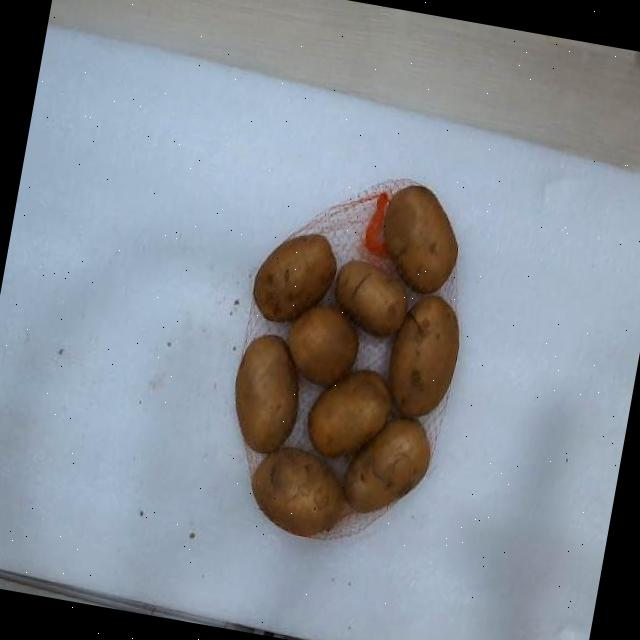potato: (389, 295, 459, 416), (251, 447, 345, 536), (343, 420, 430, 512), (384, 185, 458, 293), (235, 335, 298, 452), (308, 370, 391, 456), (253, 234, 335, 321), (287, 306, 358, 386), (334, 260, 407, 336)
